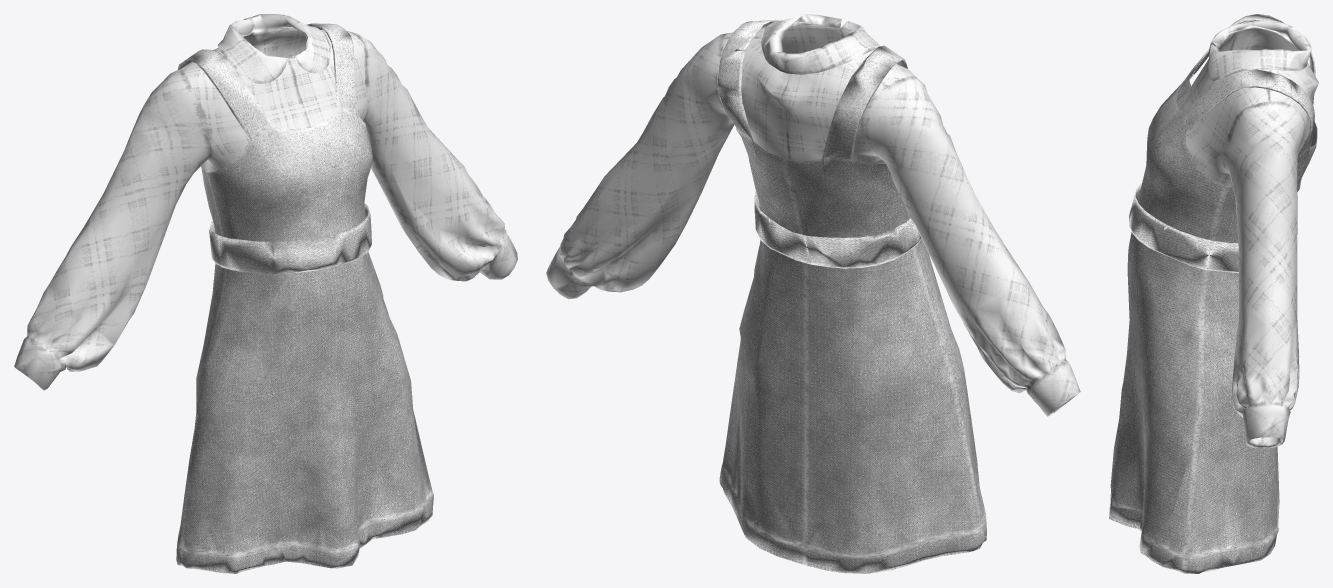
3 views of the same model, side by side, from view 1: azimuth 30°, elevation 25°; view 2: azimuth 150°, elevation 25°; view 3: azimuth 270°, elevation 25° (orthographic). The views are drawn at different scales.
Visible parts, largest first — view 1: skirt_skirt1_0, shirt_shirt1_0; view 2: skirt_skirt1_0, shirt_shirt1_0; view 3: skirt_skirt1_0, shirt_shirt1_0.
Part boxes in pixels (x1=…): skirt_skirt1_0: x1=176, y1=23, x2=433, y2=573; shirt_shirt1_0: x1=14, y1=14, x2=517, y2=390; skirt_skirt1_0: x1=717, y1=20, x2=986, y2=573; shirt_shirt1_0: x1=546, y1=14, x2=1080, y2=416; skirt_skirt1_0: x1=1109, y1=14, x2=1317, y2=573; shirt_shirt1_0: x1=1176, y1=20, x2=1318, y2=448.
Size of the model in its own units: 723 by 693 by 265.
Materials: 2 (2 with a texture image).
